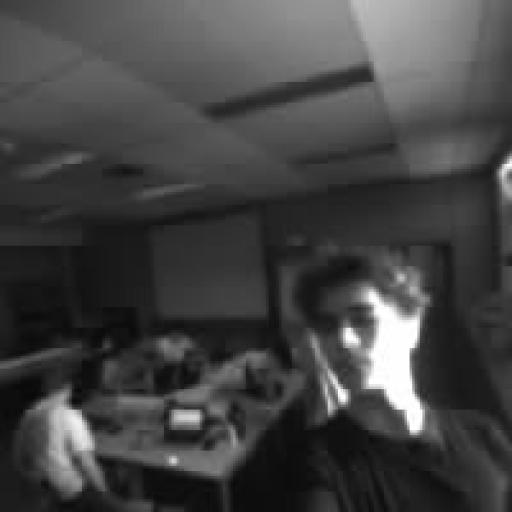human: (287, 249, 511, 511), (13, 361, 130, 511), (95, 341, 155, 395), (152, 321, 200, 375)
